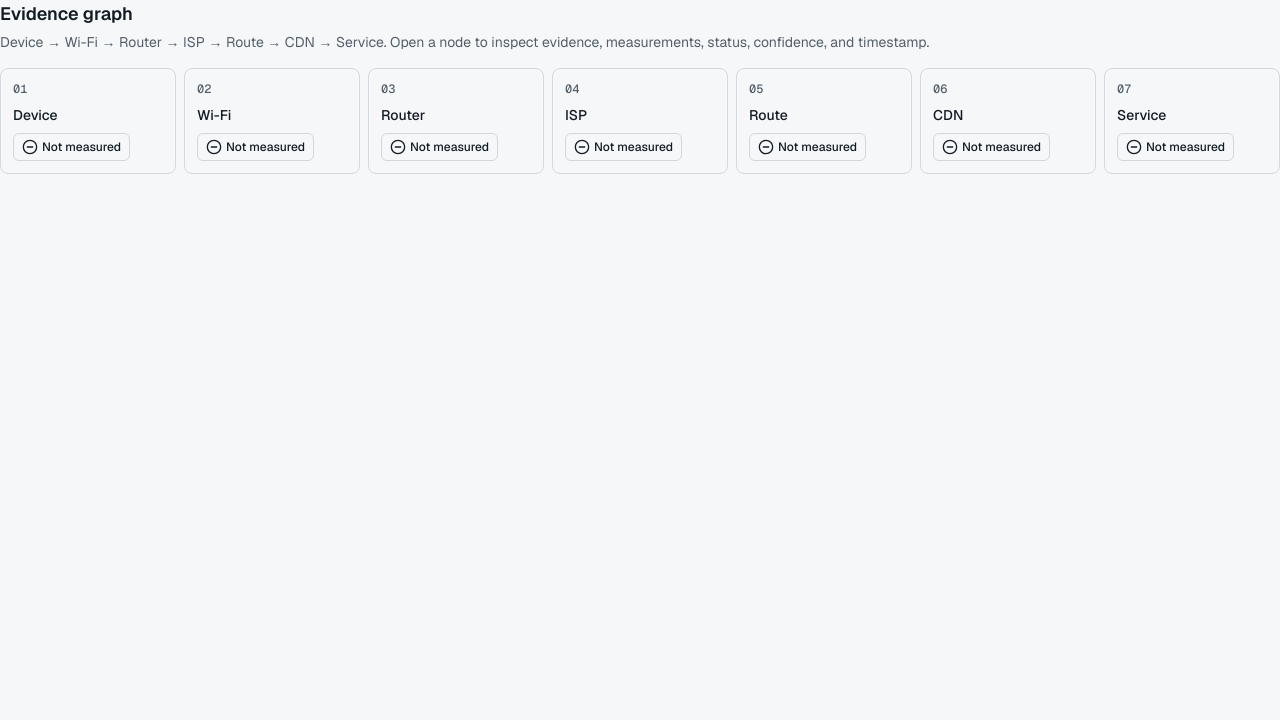
EvidenceGraph › renders every graph node as not measured and opens node details
Expected: the button "02 Wi-Fi Not measured" is shown, [184, 68, 360, 174]
Expected: the button "03 Router Not measured" is shown, [368, 68, 544, 174]
Click the button "01 Device Not measured" at point(88, 121), box [0, 68, 176, 174]
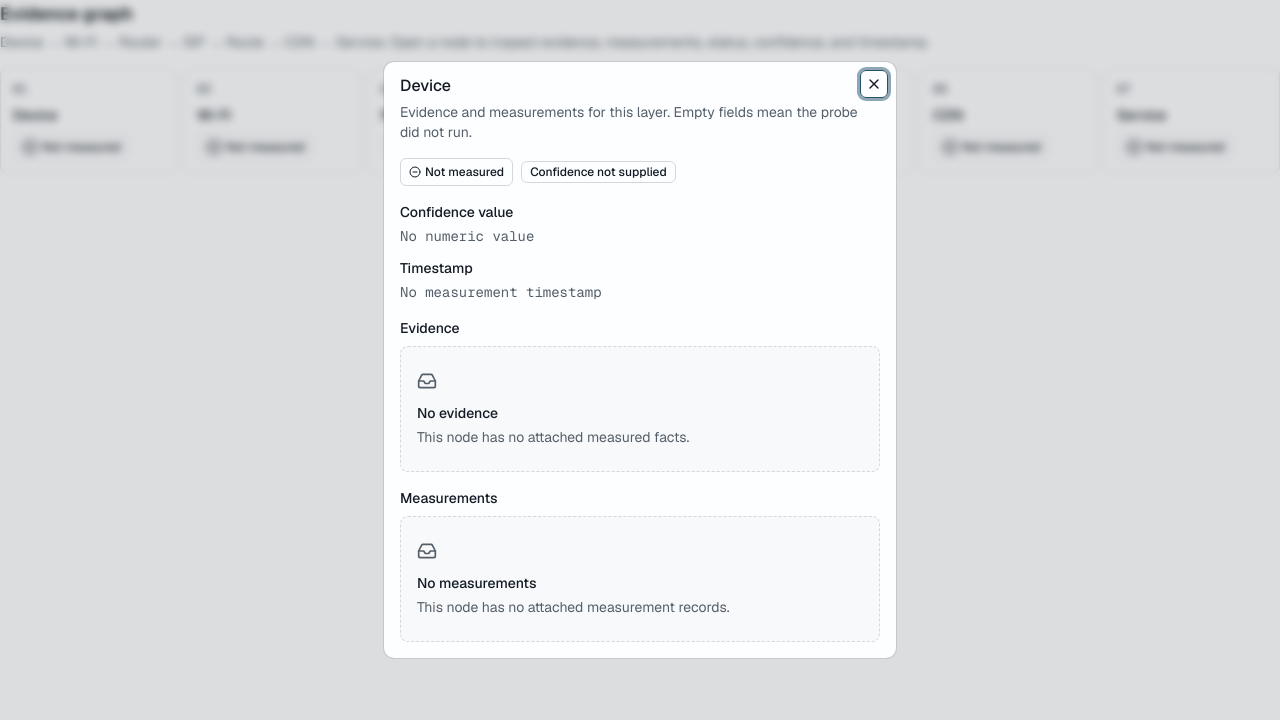
Expected: the text "No measurement timestamp" is shown, [400, 283, 602, 301]
Expected: the text "No numeric value" is shown, [400, 227, 534, 245]
Expected: the heading "No evidence" is shown, [417, 404, 498, 422]
